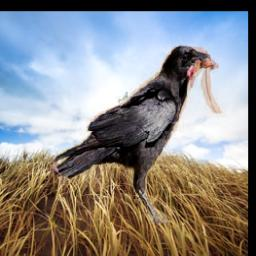Crow: (50, 39, 227, 225)
